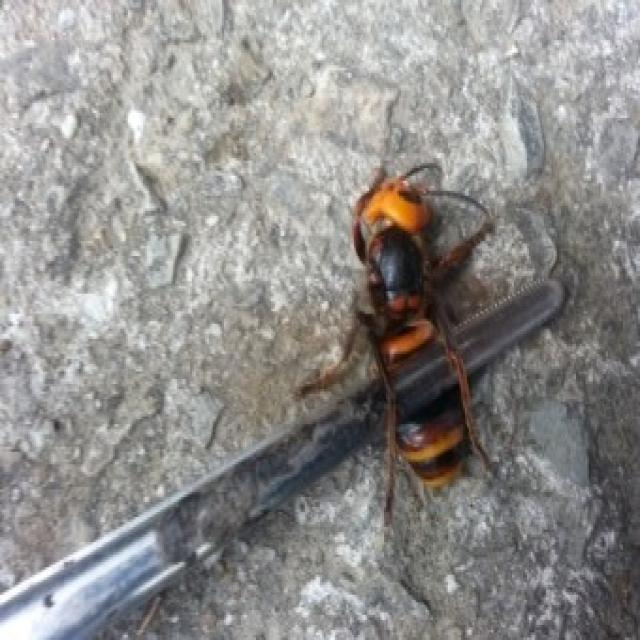Wasp: (325, 143, 493, 510)
